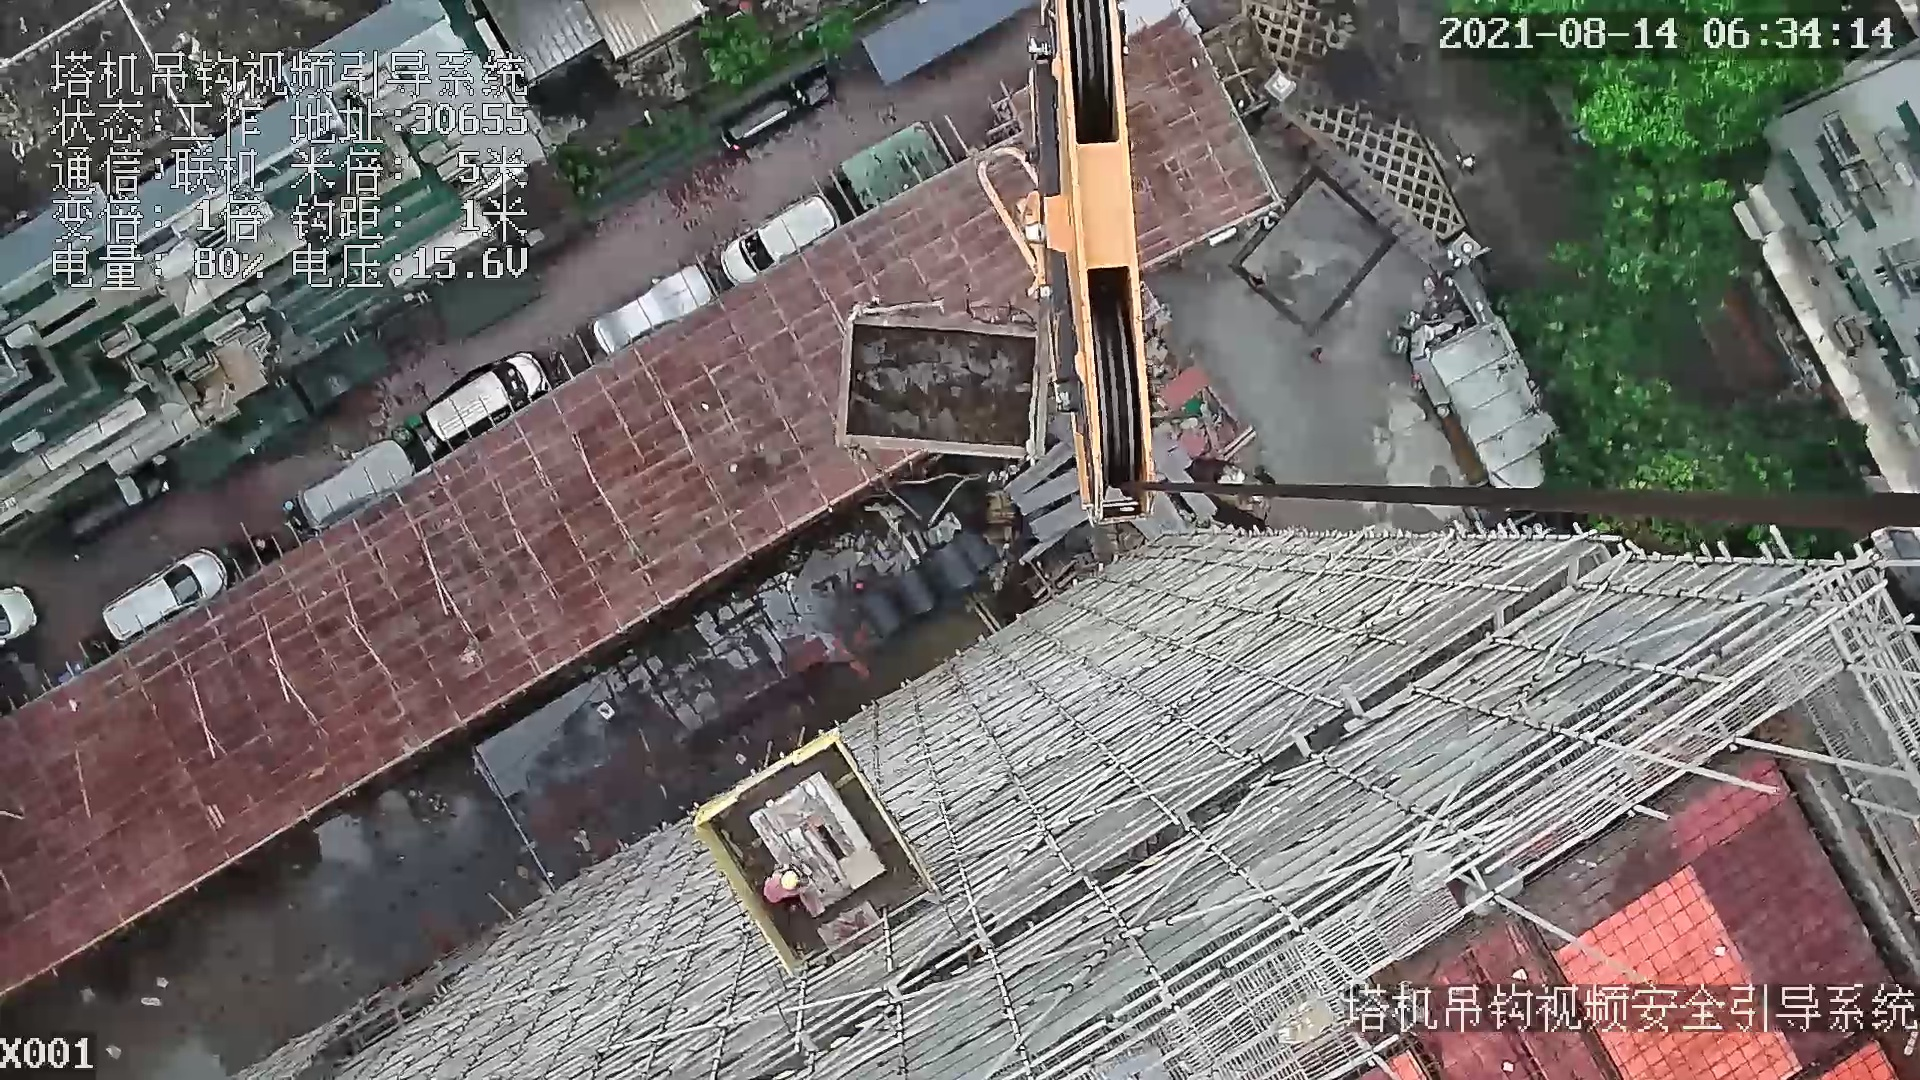helmet: (781, 871, 802, 891)
hook: (978, 1, 1165, 524)
hopper: (817, 294, 1062, 499)
person: (760, 863, 814, 905)
